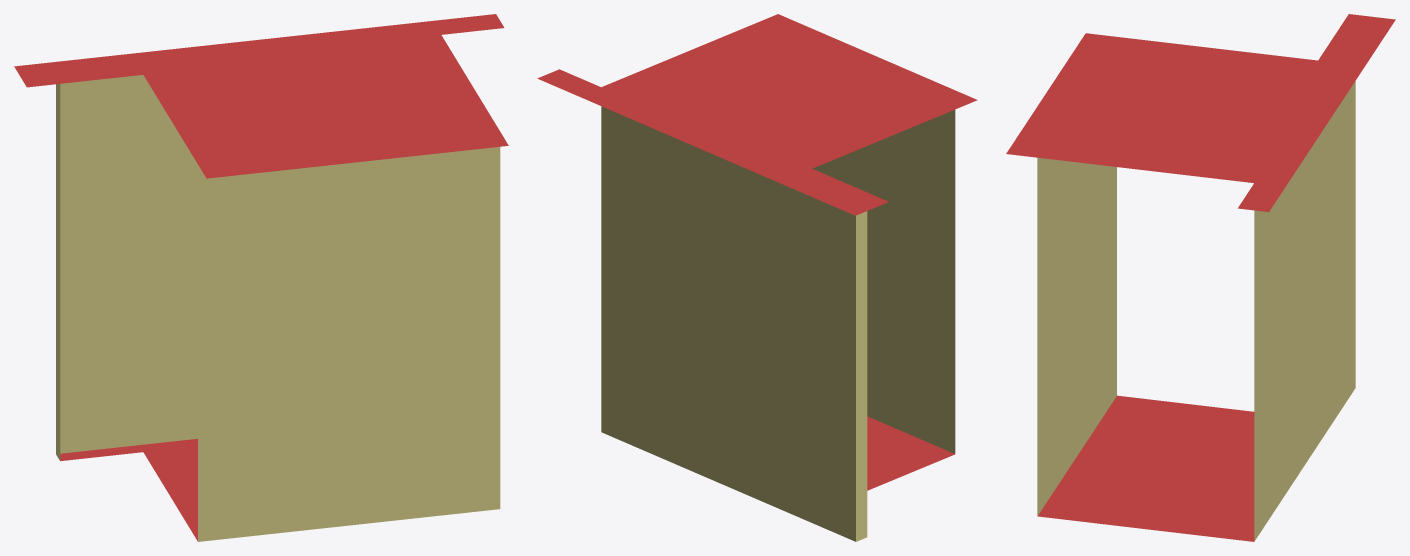
The picture shows the model from 3 angles, left to right: view 1: azimuth 30°, elevation 25°; view 2: azimuth 150°, elevation 25°; view 3: azimuth 270°, elevation 25°; orthographic projection. The views are drawn at different scales.
Bounding box in the file's own units: 7.18 × 5.97 × 6.06.
